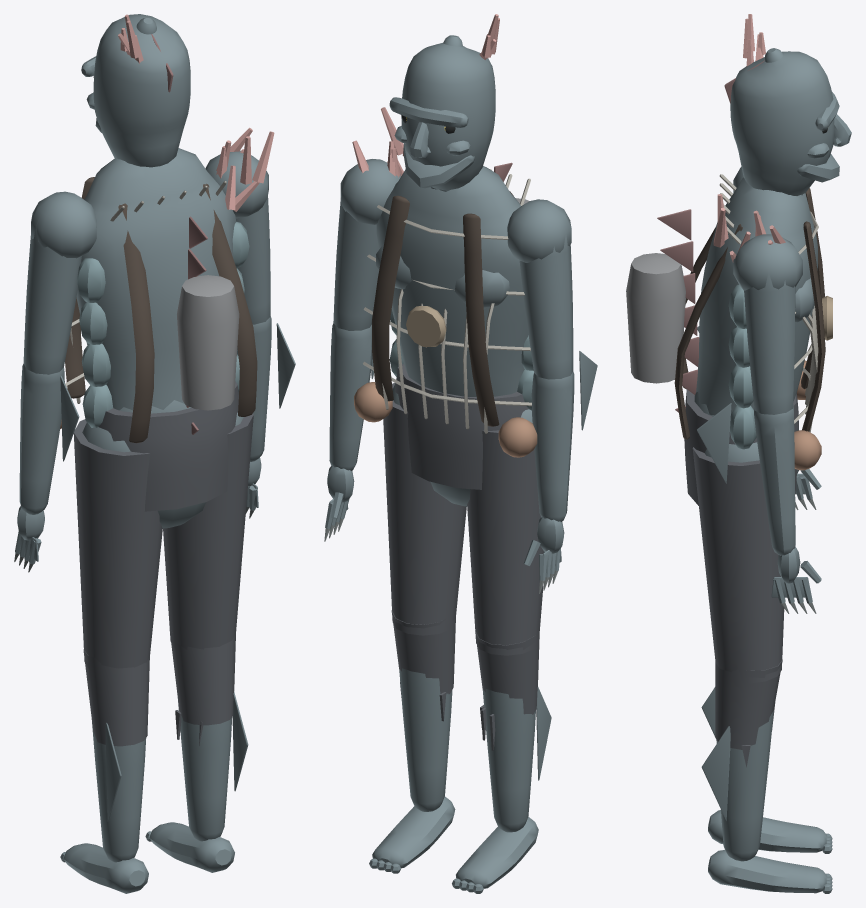
File: en_swimmer.gltf
The picture shows the model from 3 angles, left to right: view 1: azimuth 30°, elevation 25°; view 2: azimuth 150°, elevation 25°; view 3: azimuth 270°, elevation 25°; orthographic projection. The views are drawn at different scales.
Parts seen in each view (by area): view 1: Spine, LegL, V1_Harness, ShinR, ShinL, Head, LegR, Hips, ForeL, ArmL, ForeR, ArmR (+2 smaller); view 2: Spine, LegL, ShinL, LegR, ShinR, Head, V1_Harness, Hips, ForeL, ForeR, V2_Net, ArmL (+3 smaller); view 3: Spine, LegR, ShinR, Head, V1_Harness, ForeR, ArmR, ShinL, V2_Net, Hips, V3_Coral, V3_CoralHead (+2 smaller).
Boxes of the visible parts, bbox=[...] form: Spine: bbox=[31, 148, 268, 434]; LegL: bbox=[73, 419, 162, 669]; V1_Harness: bbox=[65, 177, 257, 443]; ShinR: bbox=[145, 629, 248, 872]; ShinL: bbox=[60, 649, 149, 893]; Head: bbox=[81, 14, 190, 167]; LegR: bbox=[163, 412, 253, 649]; Hips: bbox=[98, 381, 238, 528]; ForeL: bbox=[14, 363, 79, 572]; ArmL: bbox=[23, 215, 81, 374]; ForeR: bbox=[237, 316, 295, 518]; ArmR: bbox=[236, 196, 270, 324]; Spine: bbox=[340, 159, 571, 410]; LegL: bbox=[467, 409, 543, 655]; ShinL: bbox=[452, 631, 551, 893]; LegR: bbox=[383, 383, 466, 635]; ShinR: bbox=[369, 610, 455, 873]; Head: bbox=[389, 35, 495, 190]; V1_Harness: bbox=[372, 191, 529, 426]; Hips: bbox=[395, 364, 528, 506]; ForeL: bbox=[523, 351, 597, 593]; ForeR: bbox=[324, 323, 373, 541]; V2_Net: bbox=[354, 169, 537, 457]; ArmL: bbox=[519, 223, 573, 379]; Spine: bbox=[657, 167, 817, 449]; LegR: bbox=[692, 442, 784, 683]; ShinR: bbox=[701, 659, 832, 893]; Head: bbox=[724, 48, 851, 195]; V1_Harness: bbox=[626, 188, 832, 439]; ForeR: bbox=[697, 403, 821, 613]; ArmR: bbox=[744, 261, 795, 414]; ShinL: bbox=[701, 662, 832, 853]; V2_Net: bbox=[719, 174, 821, 470]; Hips: bbox=[684, 389, 798, 505]; V3_Coral: bbox=[713, 194, 785, 262]; V3_CoralHead: bbox=[743, 14, 765, 66].
Size of the model in its own units: 0.5444 by 1.85 by 0.4493.
